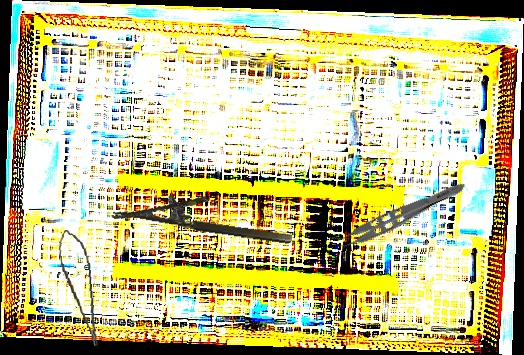Micro Scissor: (54, 227, 103, 350)
Needle Holder: (111, 182, 297, 247)
Tissue Forceps: (327, 170, 469, 258)
